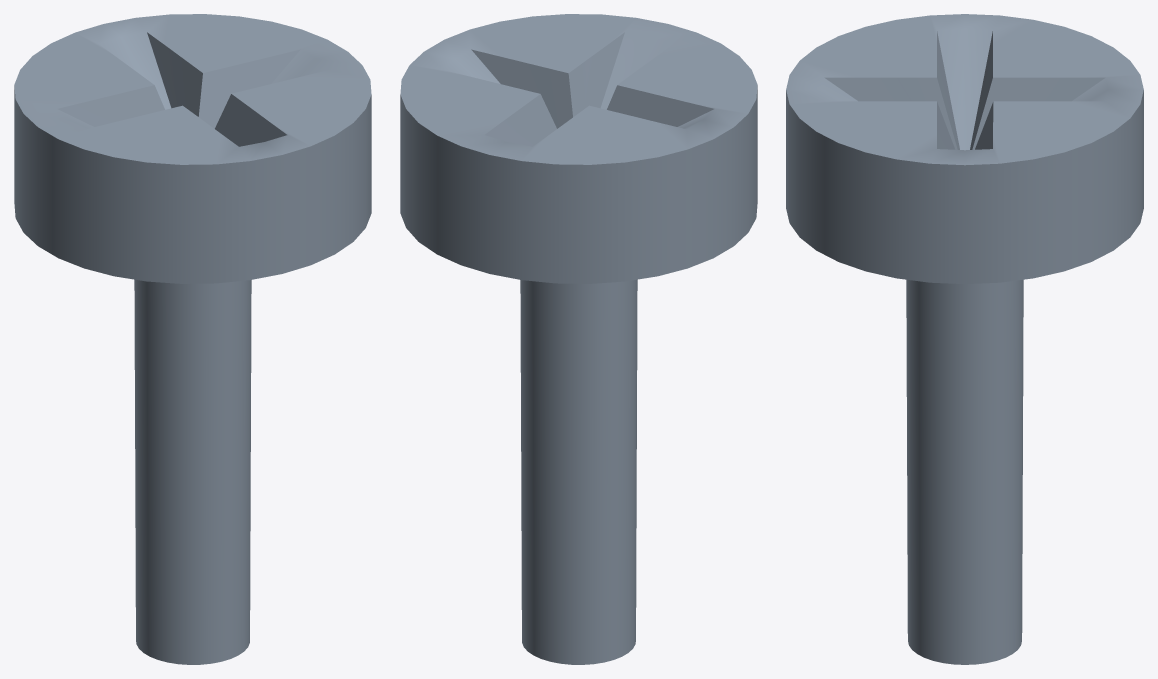
File: Screw-1.fbx
The picture shows the model from 3 angles, left to right: view 1: azimuth 30°, elevation 25°; view 2: azimuth 150°, elevation 25°; view 3: azimuth 270°, elevation 25°; orthographic projection.
Visible parts, largest first — view 1: Cylinder.071; view 2: Cylinder.071; view 3: Cylinder.071.
Part boxes in pixels (left/top/right/bottom): Cylinder.071: left=14, top=14, right=371, bottom=664; Cylinder.071: left=400, top=14, right=757, bottom=664; Cylinder.071: left=786, top=14, right=1143, bottom=664.
Bounding box in the file's own units: 1 × 1.7 × 1.
